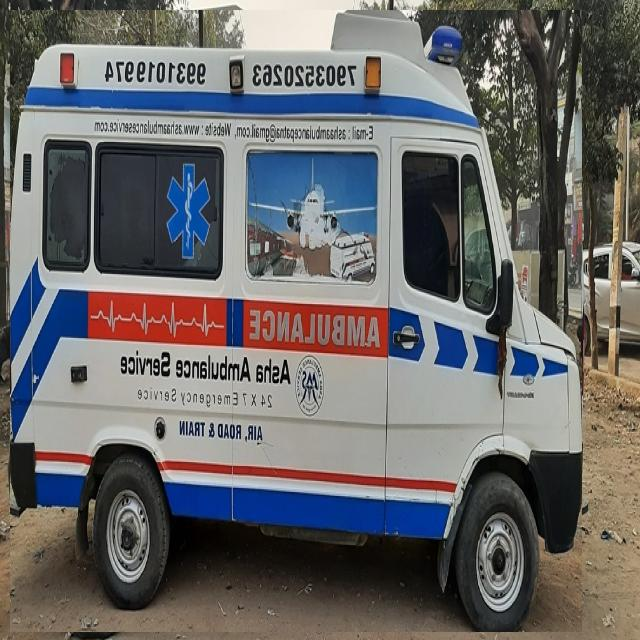emergency: (10, 10, 582, 632)
